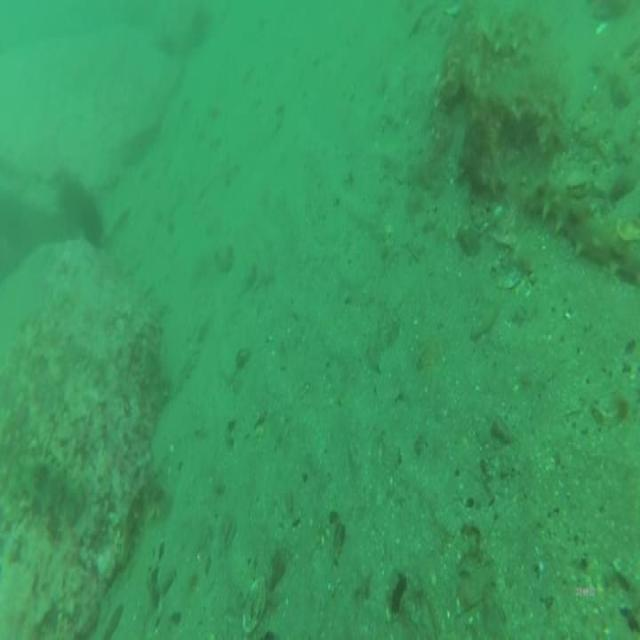echinus: (54, 174, 105, 254)
holothurian: (522, 169, 640, 278), (469, 62, 570, 136), (432, 0, 471, 119), (110, 468, 150, 577), (481, 0, 543, 65)
scallop: (240, 572, 270, 637)
